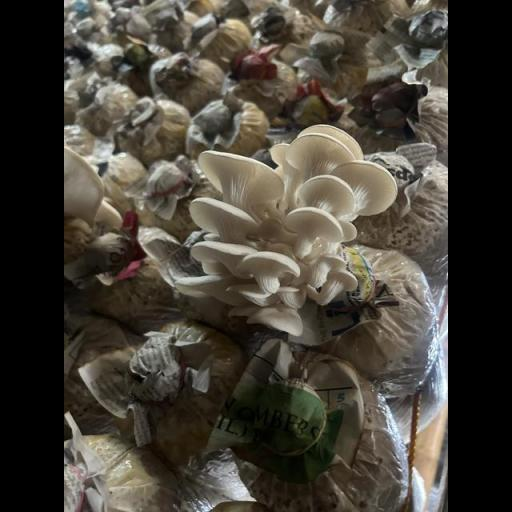White Oyster Mushroom: (166, 94, 407, 344)
